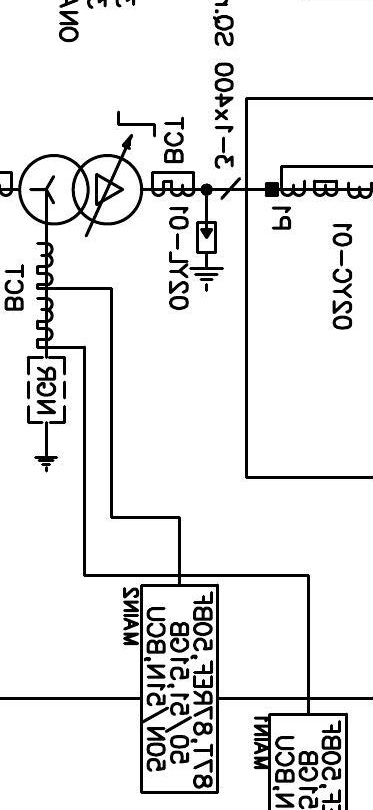11522_tx_dyn1: (17, 153, 144, 226)
115_la: (188, 220, 225, 293)
NGR_future: (26, 355, 67, 473)
